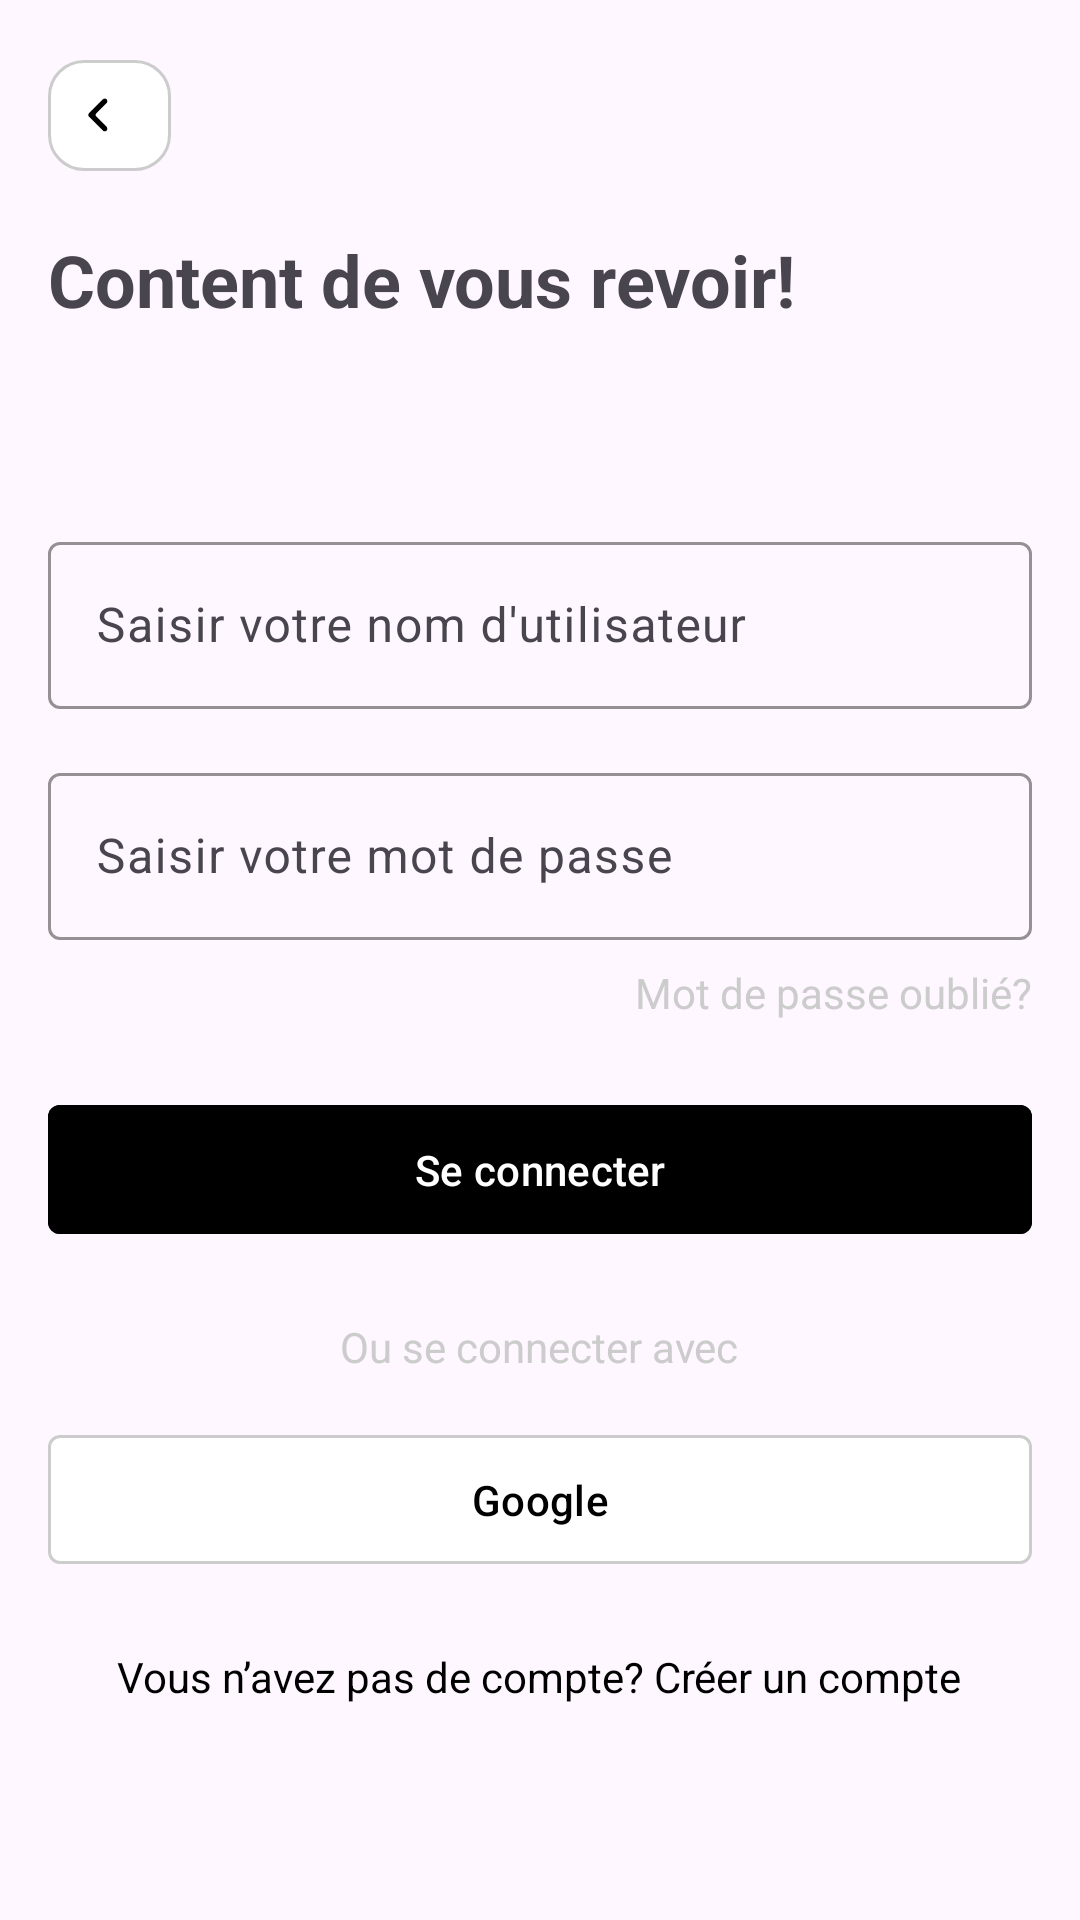

Icons on this 1080x1920 Android screen, each with its box as (x1, y1, x2, y2):
chevron left: (48, 60, 171, 171)
